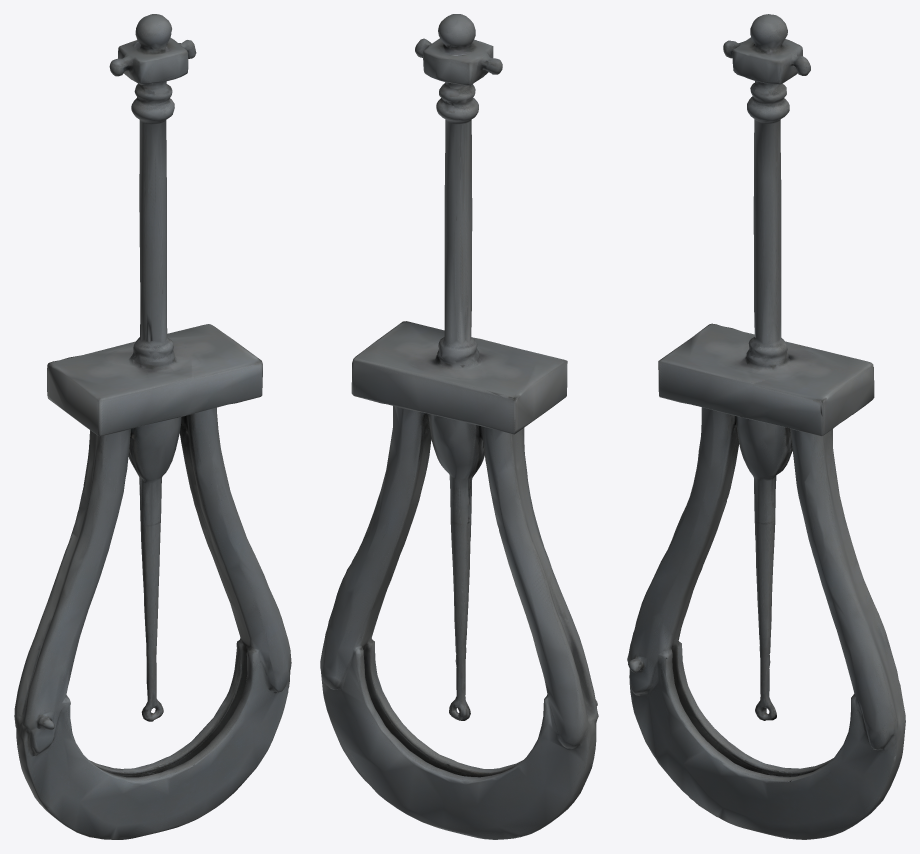
Rendered from pendulum_blade.glb.
The picture shows the model from 3 angles, left to right: view 1: azimuth 30°, elevation 25°; view 2: azimuth 150°, elevation 25°; view 3: azimuth 330°, elevation 25°; orthographic projection.
Size of the model in its own units: 0.6884 by 2 by 0.2366.
Materials: 1 (1 with a texture image).
